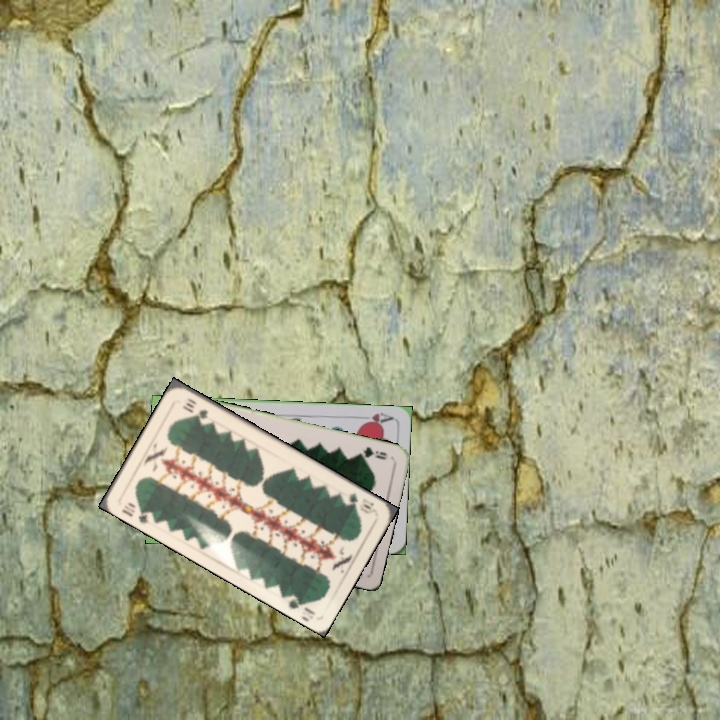G10: (118, 498, 157, 526), (345, 489, 378, 517)
G9: (353, 443, 389, 462)
HA: (355, 409, 395, 428)
